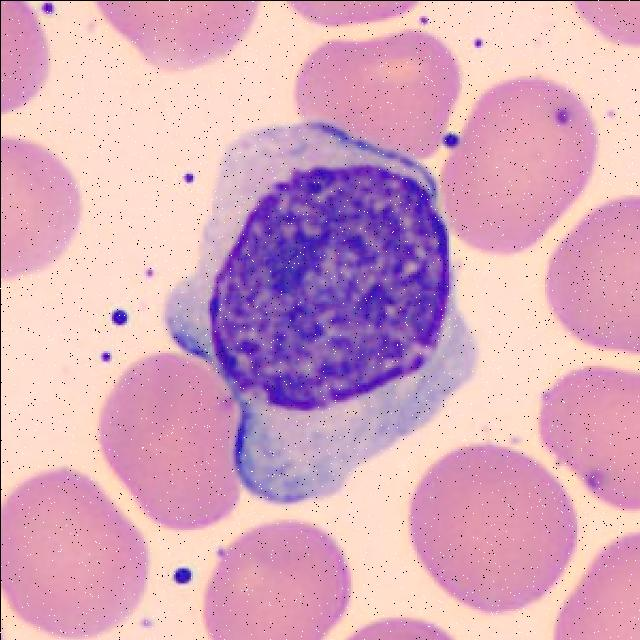White Blood Cell: (165, 124, 475, 502)
